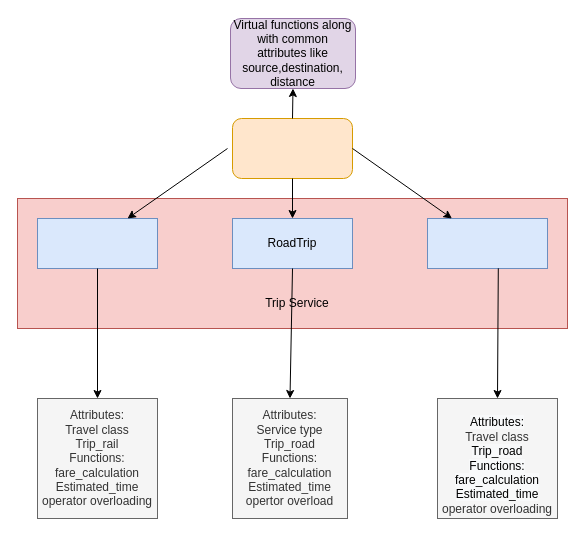
The diagram is 585 pixels wide and 536 high, and some of its shapes have lost their labels. The centre of each missing label's shape, as x and y in pixels:
FlightTrip: (487,243)
RailTrip: (97,243)
Trip (Abstract class): (292,148)
